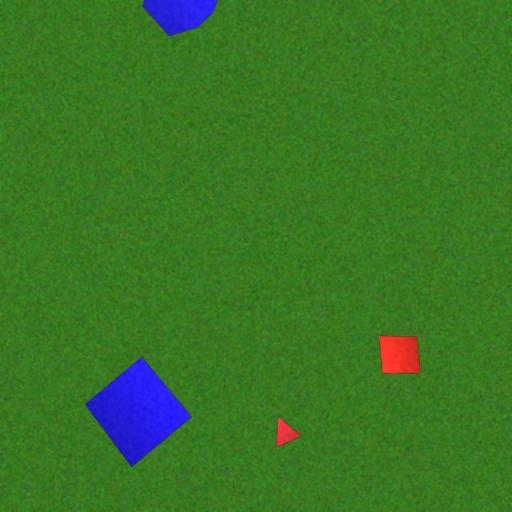BLUE_SQUARE: (84, 356, 193, 468)
RED_SQUARE: (378, 336, 422, 374)
